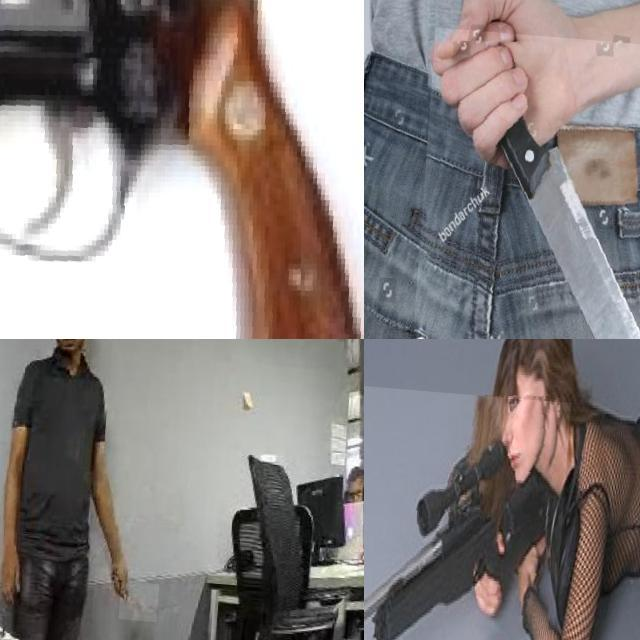-: (411, 24, 640, 339), (126, 576, 168, 616)
gun-knife-thesis - v11 Yolov5 augmented: (0, 0, 364, 339), (364, 378, 573, 640)
